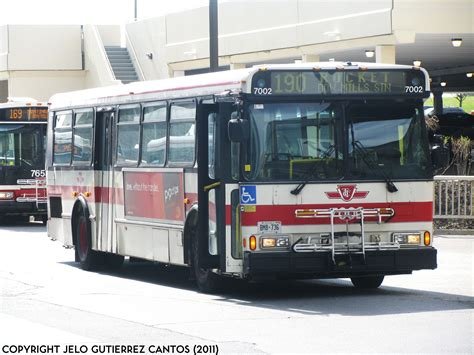bus: (50, 63, 432, 290)
